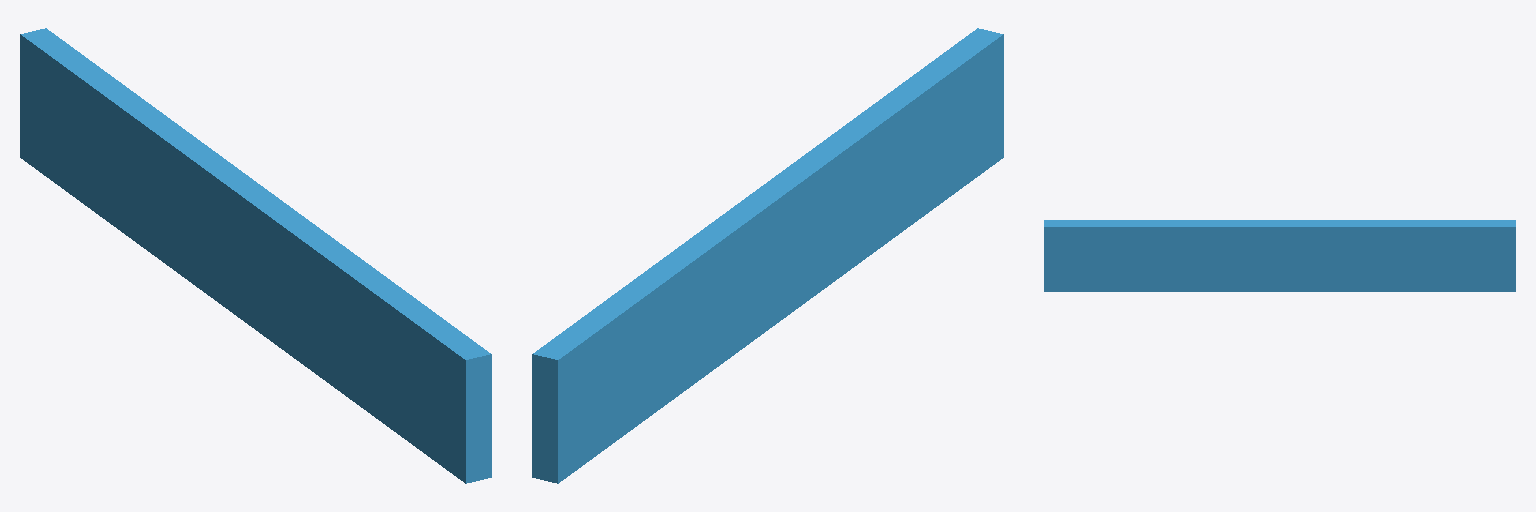
The robot description file, URDF, robot "box_18":
<?xml version="1.0" encoding="utf-8"?>    
    
    <robot name="box_18">
        <link name="box_18">    
            <fem>
                <origin rpy="0.0 0.0 0.0" xyz="0 0 0" />
                <density value="100" />
                <youngs value="929"/>
                <poissons value="0.3" />
                <damping value="0.0" />
                <attachDistance value="0.01" />
                <tetmesh filename="[local-path]/sim_data/Custom/Custom_mesh/multi_box_1kPa/box_18.tet" />
                <scale value="0.5"/>
            </fem>
        </link>

        <link name="fix_frame">
            <visual>
                <origin xyz="-10.047804875715656 0.0 0.0"/>              
                <geometry>
                    <box size="0.005 0.15 0.022961401975221448"/>
                </geometry>
            </visual>
            <collision>
                <origin xyz="-0.047804875715656434 0.0 0.0"/>              
                <geometry>
                    <box size="0.005 0.15 0.022961401975221448"/>
                </geometry>
            </collision>
            <inertial>
                <mass value="500000"/>
                <inertia ixx="0.05" ixy="0.0" ixz="0.0" iyy="0.05" iyz="0.0" izz="0.05"/>
            </inertial>
        </link>
        
        <joint name = "attach" type = "fixed">
            <origin xyz = "0.0 0.0 0.0" rpy = "0 0 0"/>
            <parent link ="box_18"/>
            <child link = "fix_frame"/>
        </joint>  




    </robot>
    

--- Facts derived from the render (not from the file) ---
The picture shows the robot from 3 angles, left to right: view 1: azimuth 30°, elevation 25°; view 2: azimuth 150°, elevation 25°; view 3: azimuth 270°, elevation 25°; orthographic projection.
Robot: box_18 — 2 links, 1 joints (1 fixed); root link box_18; default pose: all joints at 0.
Links seen in each view (by area): view 1: fix_frame; view 2: fix_frame; view 3: fix_frame.
Link boxes in pixels (x1=…): fix_frame: x1=20, y1=28, x2=491, y2=483; fix_frame: x1=532, y1=28, x2=1003, y2=483; fix_frame: x1=1044, y1=220, x2=1515, y2=291.
Bounding box of the posed robot: 0.005 × 0.15 × 0.023 m (x, y, z).
Geometry: primitives only (box / cylinder / sphere), no mesh files.